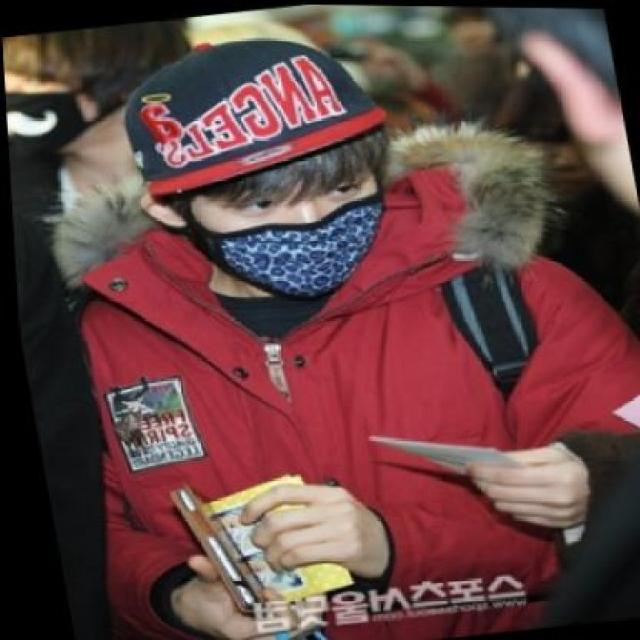hat: (101, 14, 408, 203)
